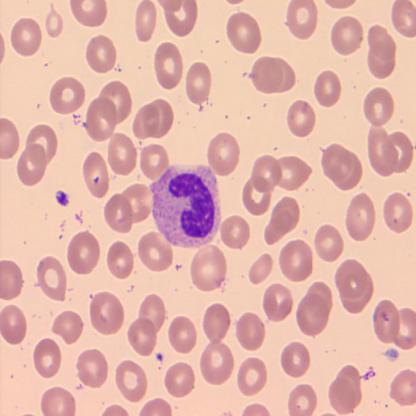Band Neutrophil: (147, 162, 223, 249)
